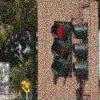traffic lights: (49, 21, 73, 79), (72, 20, 90, 82)
